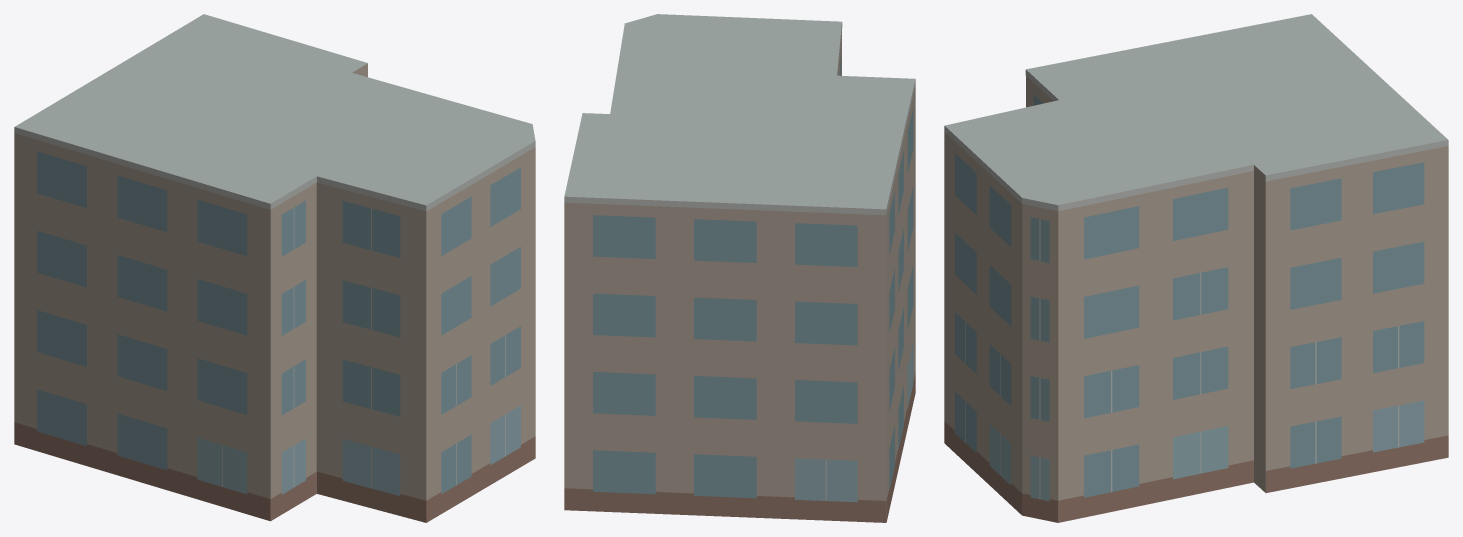
Rendered from survey-upis-32736511.glb.
3 views of the same model, side by side, from view 1: azimuth 30°, elevation 25°; view 2: azimuth 150°, elevation 25°; view 3: azimuth 270°, elevation 25° (orthographic).
Visible parts, largest first — view 1: survey-upis-32736511.tmp; view 2: survey-upis-32736511.tmp; view 3: survey-upis-32736511.tmp.
Boxes of the visible parts, bbox=[...] form: survey-upis-32736511.tmp: bbox=[14, 14, 535, 522]; survey-upis-32736511.tmp: bbox=[564, 14, 915, 522]; survey-upis-32736511.tmp: bbox=[944, 14, 1448, 522].
Size of the model in its own units: 16.54 by 12.8 by 18.42.
